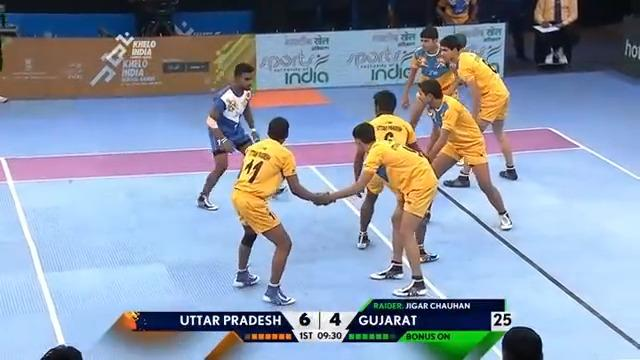Player: (313, 129, 442, 298), (228, 114, 336, 307), (351, 89, 440, 263), (413, 78, 513, 231), (437, 32, 518, 188), (399, 25, 448, 111)
Raider: (195, 61, 263, 213)
referee: (531, 0, 579, 68), (500, 325, 544, 359), (39, 344, 83, 359)
